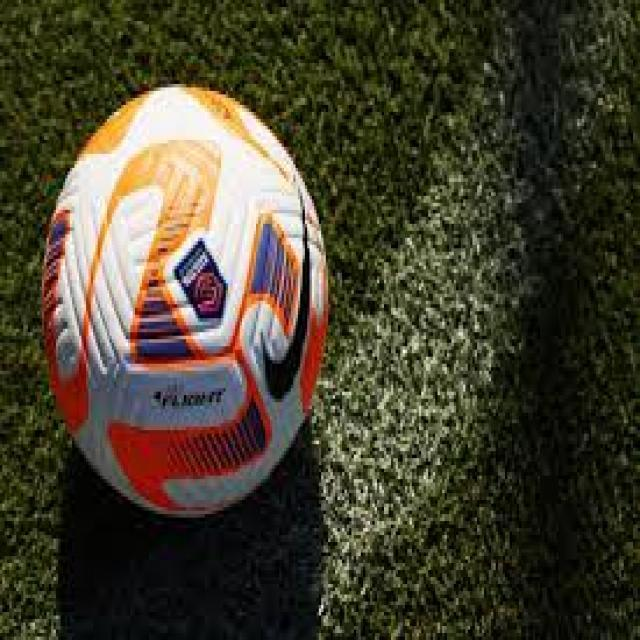Nike: (256, 171, 316, 416)
